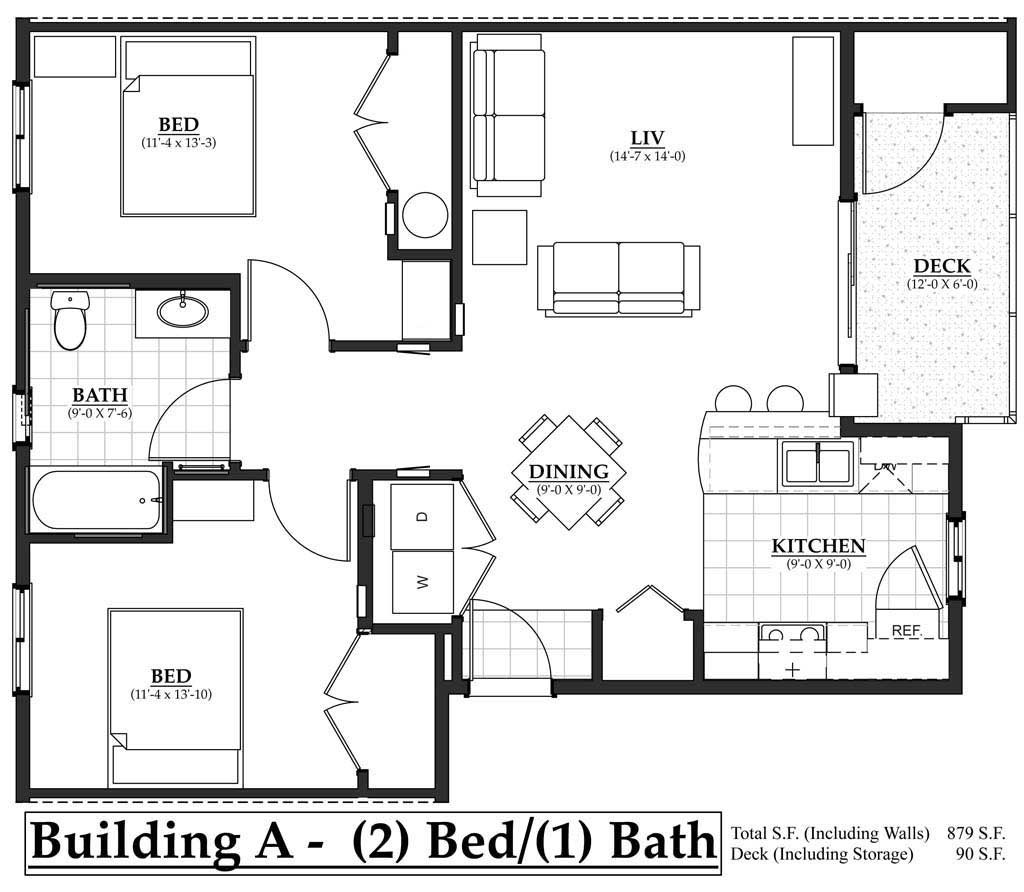door: (260, 478, 357, 573), (139, 373, 231, 462), (245, 252, 332, 334), (453, 486, 501, 601), (607, 574, 689, 625), (873, 544, 933, 602)
window: (299, 641, 387, 764), (333, 62, 420, 177), (11, 584, 32, 688), (13, 81, 29, 190), (944, 514, 963, 596), (13, 388, 33, 447)
